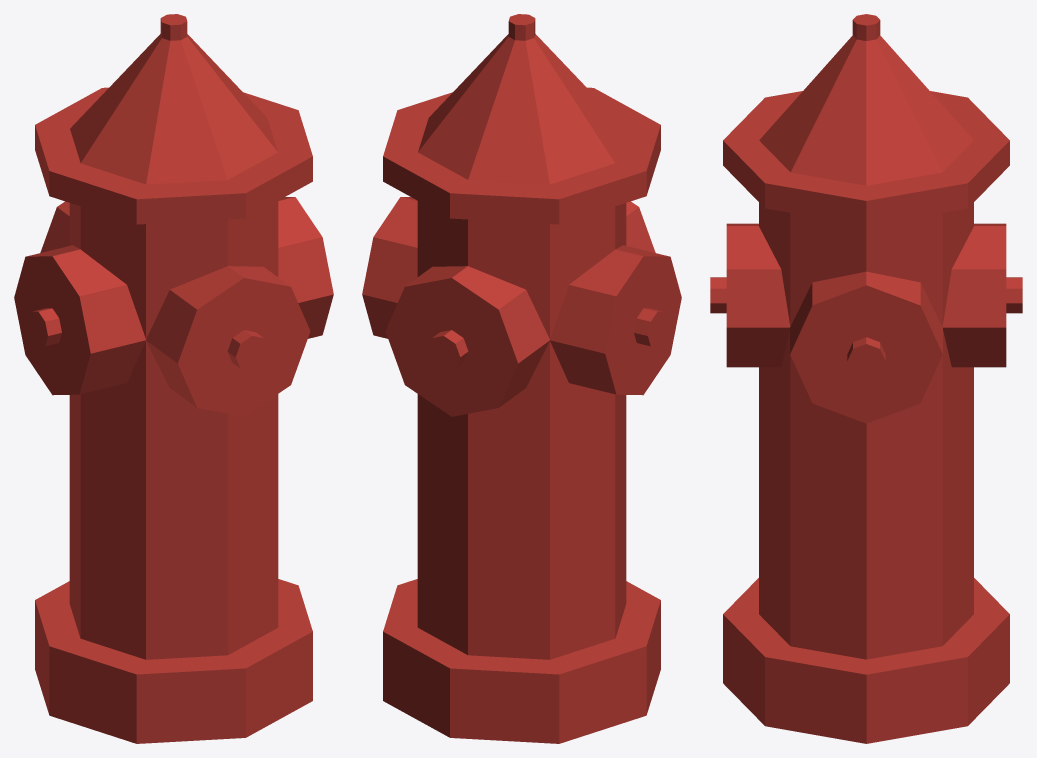
File: props-hydrant.glb
3 renders of one model, left to right at view 1: azimuth 30°, elevation 25°; view 2: azimuth 150°, elevation 25°; view 3: azimuth 270°, elevation 25°, orthographic.
Visible parts, largest first — view 1: model; view 2: model; view 3: model.
Boxes of the visible parts, x1,y1,x2,y2 form: model: [14, 14, 333, 743]; model: [362, 14, 681, 743]; model: [710, 14, 1022, 743].
Bounding box in the file's own units: 0.435 × 1.02 × 0.435.
Materials: 1 (1 with a texture image).
